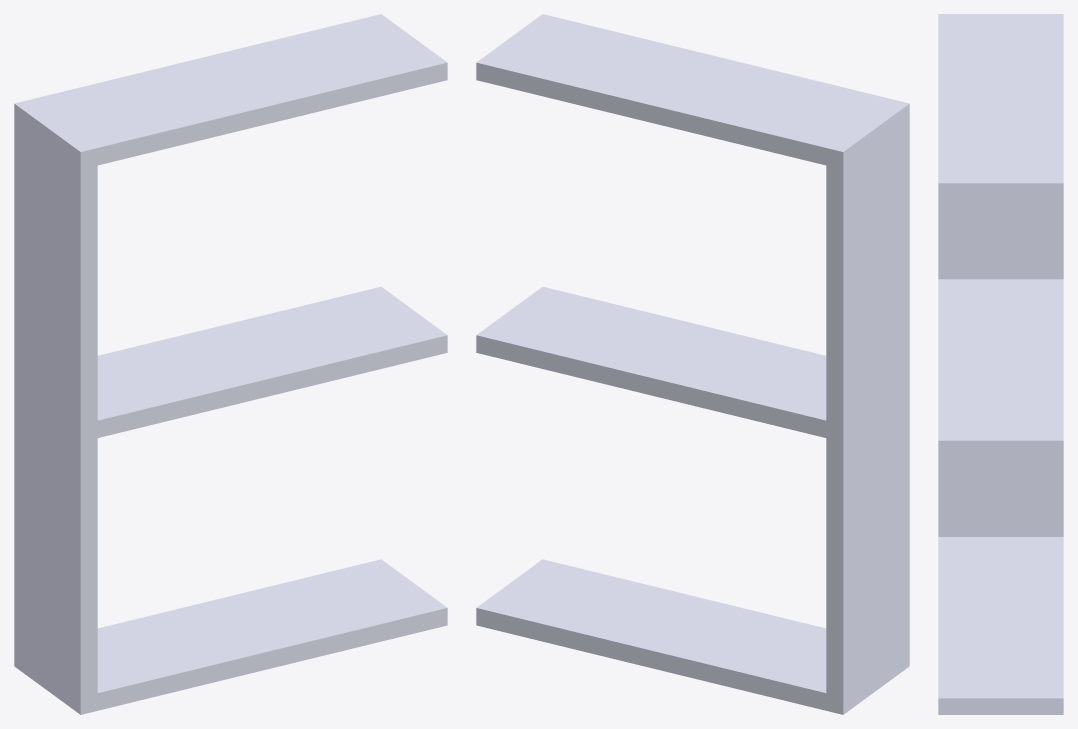
3 views of the same model, side by side, from view 1: azimuth 30°, elevation 25°; view 2: azimuth 150°, elevation 25°; view 3: azimuth 270°, elevation 25° (orthographic). The views are drawn at different scales.
Visible parts, largest first — view 1: e_AlphaProta_Grey; view 2: e_AlphaProta_Grey; view 3: e_AlphaProta_Grey.
Part boxes in pixels (<box>): e_AlphaProta_Grey: <box>14,14,447,714</box>; e_AlphaProta_Grey: <box>476,14,909,714</box>; e_AlphaProta_Grey: <box>938,14,1063,714</box>.
Size of what is drawn, in the model's own units: 0.1436 by 0.2105 by 0.045.
Materials: 2 (2 with a texture image).
